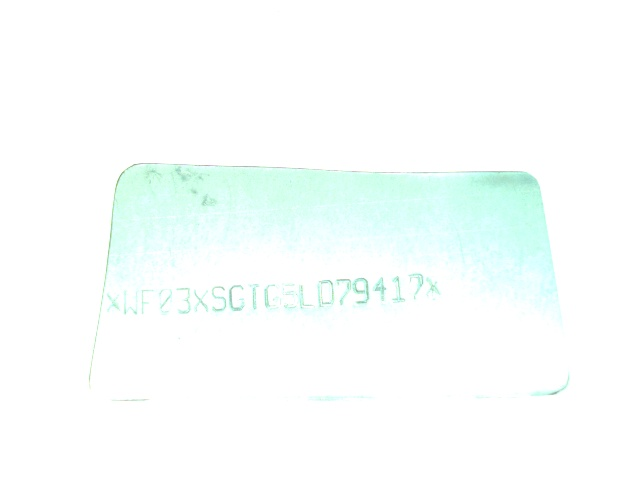0: (156, 287, 174, 316)
1: (390, 275, 406, 303)
3: (175, 286, 193, 315)
4: (374, 275, 388, 303)
5: (281, 282, 299, 310)
7: (407, 273, 425, 303), (335, 278, 352, 307)
9: (353, 277, 372, 305)
d: (317, 279, 335, 308)
f: (140, 288, 155, 316)
g: (262, 283, 282, 311), (228, 284, 247, 312)
l: (298, 282, 316, 309)
s: (210, 285, 227, 313)
t: (247, 283, 261, 312)
w: (121, 289, 139, 316)
x: (192, 286, 209, 315)
